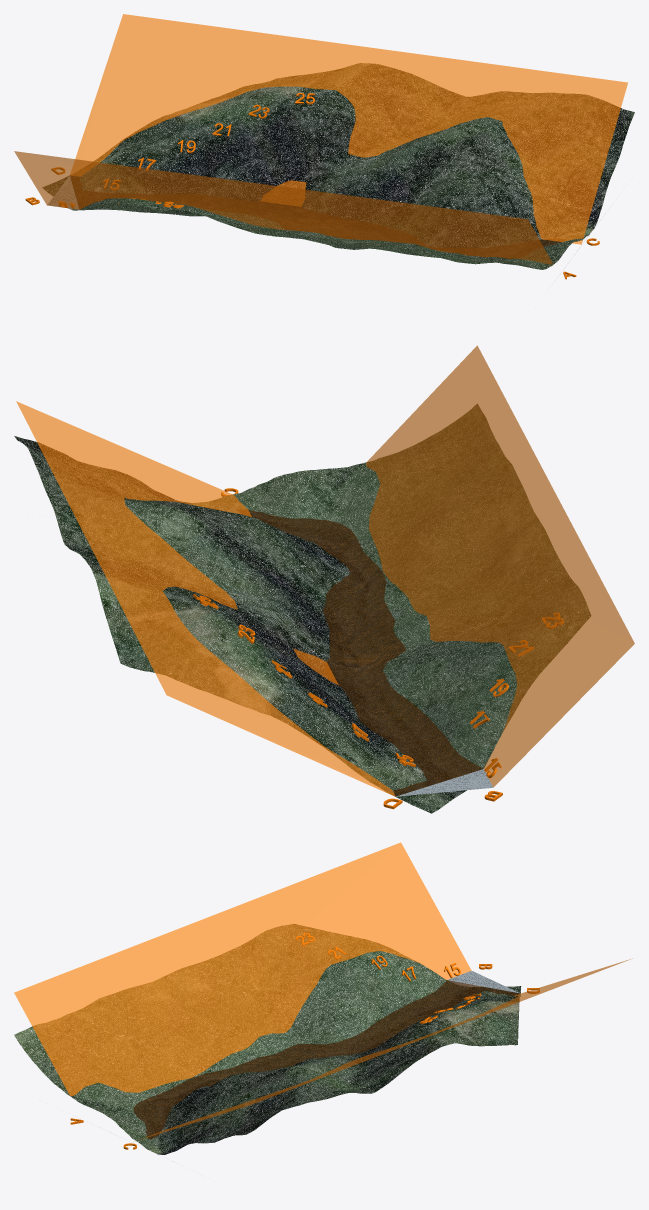
The model's file is curva16.dae.
3 views of the same model, one above another, from view 1: azimuth 30°, elevation 25°; view 2: azimuth 150°, elevation 25°; view 3: azimuth 270°, elevation 25° (orthographic). The views are drawn at different scales.
Visible parts, largest first — view 1: SketchUp (×6); view 2: SketchUp (×5); view 3: SketchUp (×5).
Part boxes in pixels (x1=…): SketchUp (×6): x1=14, y1=14, x2=634, y2=269; SketchUp (×5): x1=14, y1=345, x2=634, y2=813; SketchUp (×5): x1=14, y1=842, x2=630, y2=1154.
Size of the model in its own units: 72243 by 73507 by 13444.
Materials: 8 (1 with a texture image).
